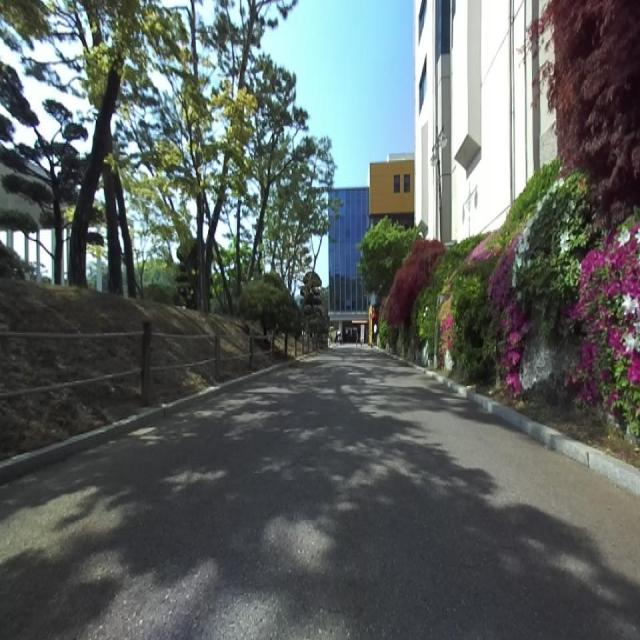sidewalk: (0, 345, 640, 639)
